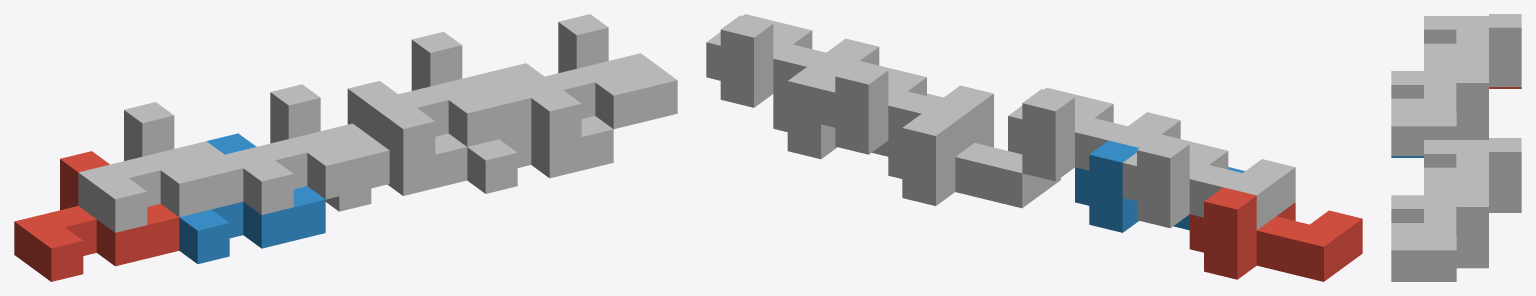
File: tiling.obj
3 renders of one model, left to right at view 1: azimuth 30°, elevation 25°; view 2: azimuth 150°, elevation 25°; view 3: azimuth 270°, elevation 25°, orthographic. The views are drawn at different scales.
Parts seen in each view (by area): view 1: copy_1_domain_3, copy_1_domain_7, copy_1_domain_4, copy_1_domain_8, copy_1_domain_1, copy_1_domain_6, copy_1_domain_2, copy_1_domain_5; view 2: copy_1_domain_1, copy_1_domain_3, copy_1_domain_7, copy_1_domain_5, copy_1_domain_8, copy_1_domain_4, copy_1_domain_6, copy_1_domain_2; view 3: copy_1_domain_8, copy_1_domain_4, copy_1_domain_7, copy_1_domain_3, copy_1_domain_6.
Boxes of the visible parts, box(x1,y1,x2,y2) form: copy_1_domain_3: box(78, 102, 243, 232); copy_1_domain_7: box(366, 31, 531, 162); copy_1_domain_4: box(225, 84, 389, 214); copy_1_domain_8: box(513, 14, 677, 144); copy_1_domain_1: box(14, 151, 179, 281); copy_1_domain_6: box(467, 63, 613, 193); copy_1_domain_2: box(179, 133, 325, 263); copy_1_domain_5: box(325, 81, 467, 211); copy_1_domain_1: box(1189, 187, 1362, 281); copy_1_domain_3: box(1122, 134, 1295, 230); copy_1_domain_7: box(821, 61, 993, 156); copy_1_domain_5: box(888, 114, 1060, 208); copy_1_domain_8: box(706, 14, 879, 107); copy_1_domain_4: box(1008, 87, 1180, 181); copy_1_domain_6: box(773, 67, 943, 159); copy_1_domain_2: box(1075, 140, 1244, 232); copy_1_domain_8: box(1391, 193, 1488, 279); copy_1_domain_4: box(1391, 69, 1488, 155); copy_1_domain_7: box(1424, 138, 1521, 210); copy_1_domain_3: box(1424, 14, 1521, 86); copy_1_domain_6: box(1391, 266, 1488, 281).
Size of the model in its own units: 19 by 3 by 4.
